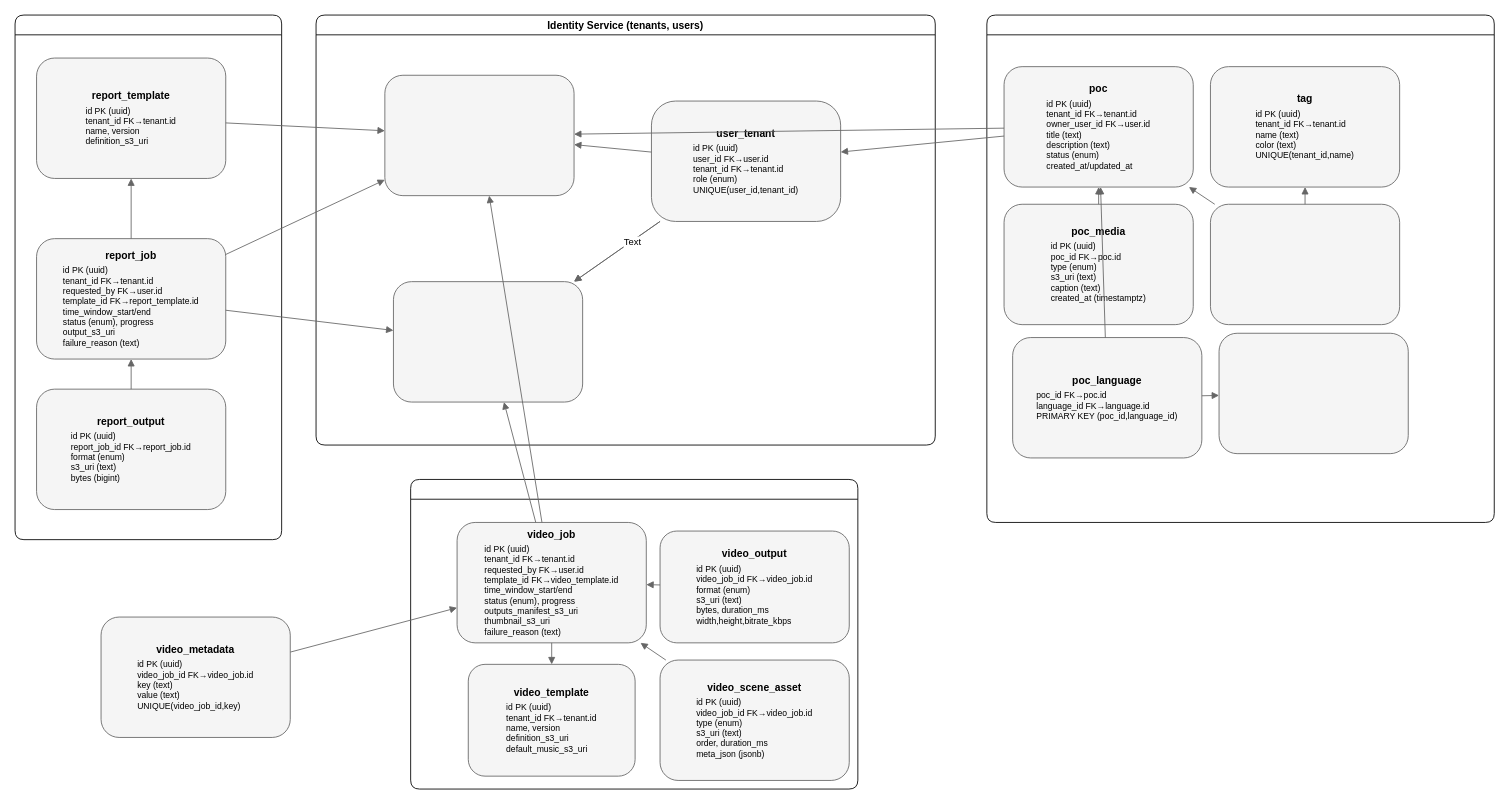
This 1509x804 diagram has some shape labels left out. The shapes that lost their labels are listed below. From the top down, each one's box as (x1, y1, x2, y2) in pixels, then its label:
(384, 74, 574, 196): tenant id PK (uuid) name (text) slug UNIQUE (text) created_at (timestamptz)
(14, 14, 282, 540): Reporting Service (report jobs/templates/outputs)
(986, 14, 1494, 522): POC Service (pocs, tags, languages)
(1210, 203, 1400, 325): poc_tag poc_id FK→poc.id tag_id FK→tag.id PRIMARY KEY (poc_id,tag_id)
(393, 281, 583, 402): user id PK (uuid) email UNIQUE (text) name (text) created_at (timestamptz)
(1218, 332, 1408, 454): language id PK (uuid) name (text) code (text) UNIQUE(code)
(410, 479, 858, 789): Video Service (video jobs/templates/outputs)
